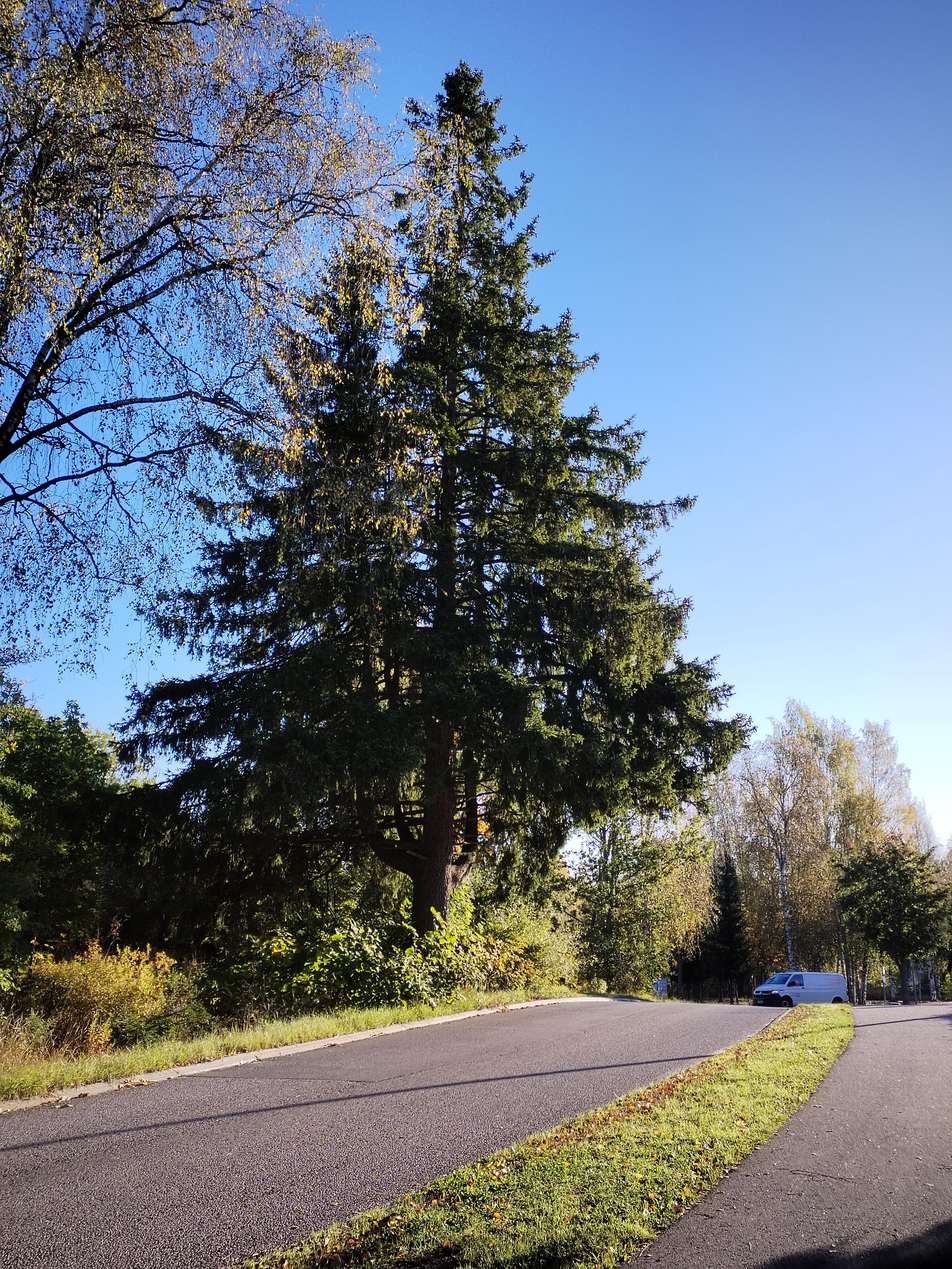Spruce: (207, 48, 727, 959)
